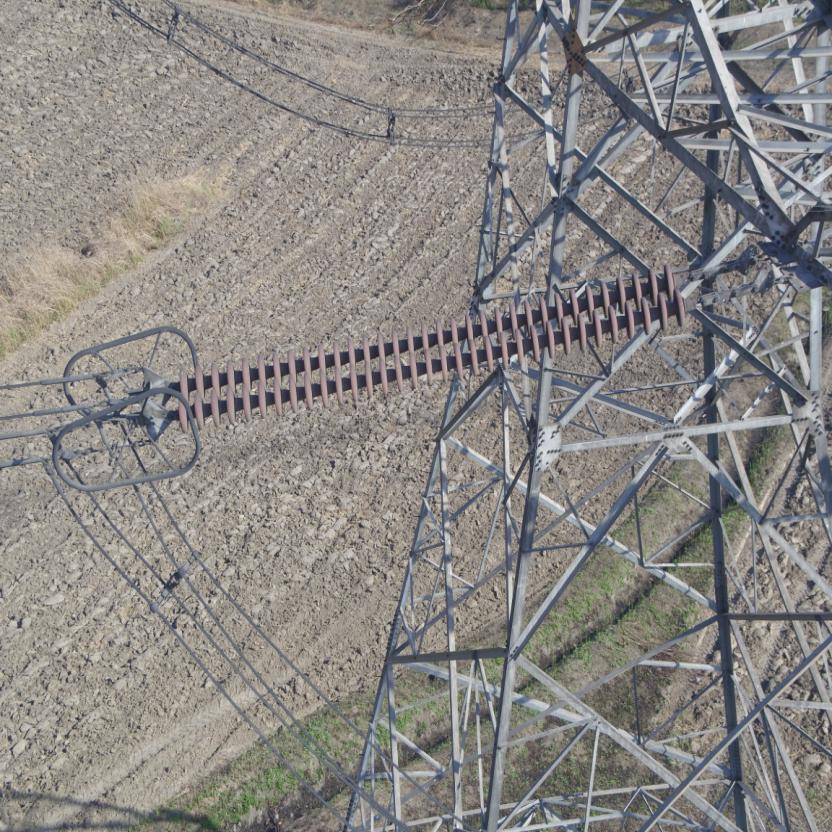insulator: (164, 259, 717, 435)
